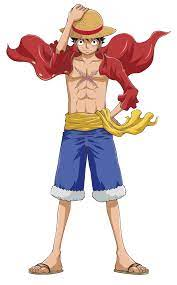luffy: (57, 8, 119, 62)
